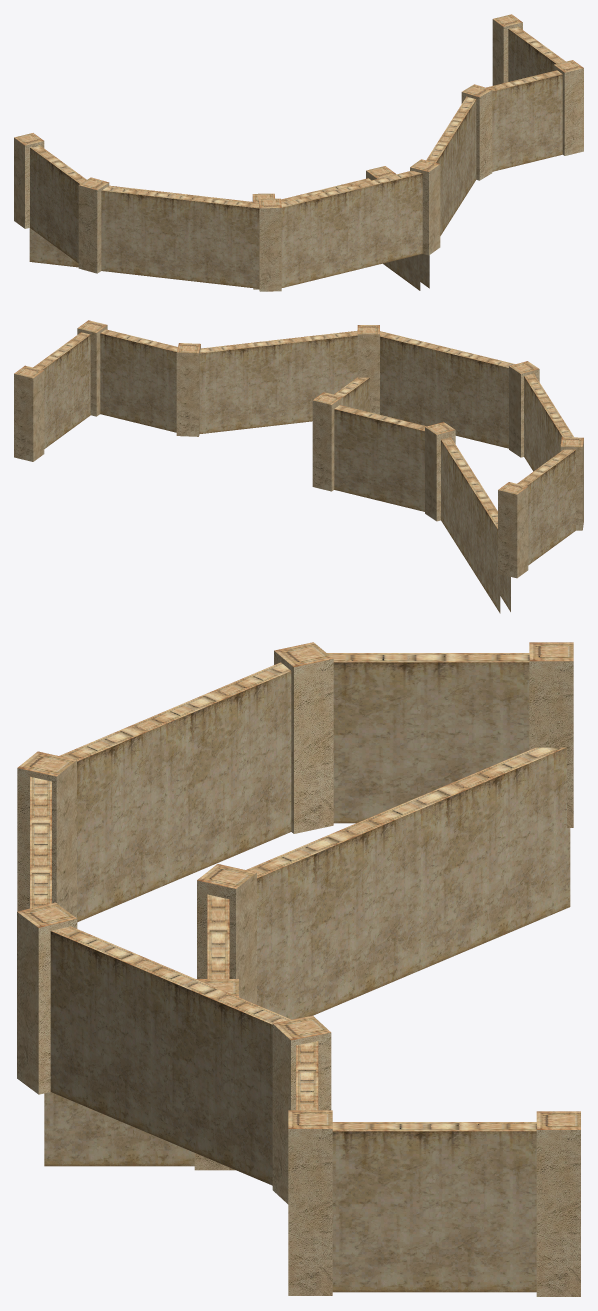
File: poi_tato_corral_half_32x32_s02_l0.fbx
3 renders of one model, top to bottom at view 1: azimuth 30°, elevation 25°; view 2: azimuth 150°, elevation 25°; view 3: azimuth 270°, elevation 25°, orthographic. The views are drawn at different scales.
Parts seen in each view (by area): view 1: mesh_node; view 2: mesh_node; view 3: mesh_node.
Boxes of the visible parts, box(x1,y1,x2,y2) form: mesh_node: box(14, 14, 583, 291); mesh_node: box(14, 320, 583, 613); mesh_node: box(17, 642, 580, 1296).
Bounding box in the file's own units: 26.02 × 6.15 × 12.71.
